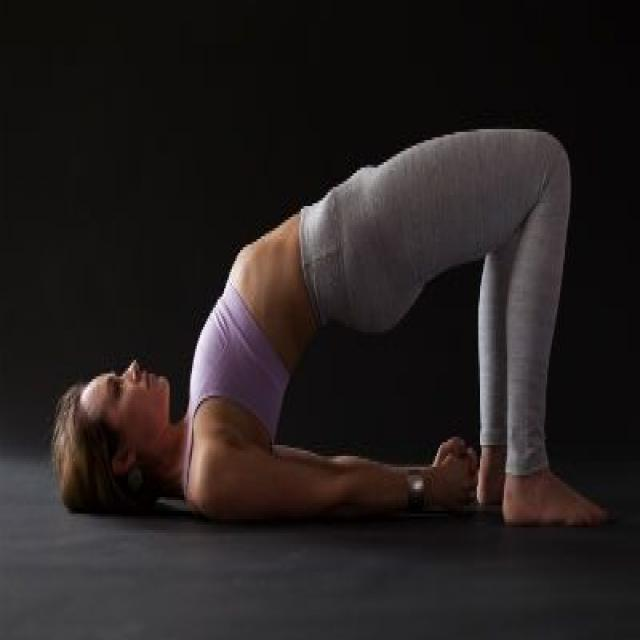yoga-pose bridge: (60, 126, 612, 537)
